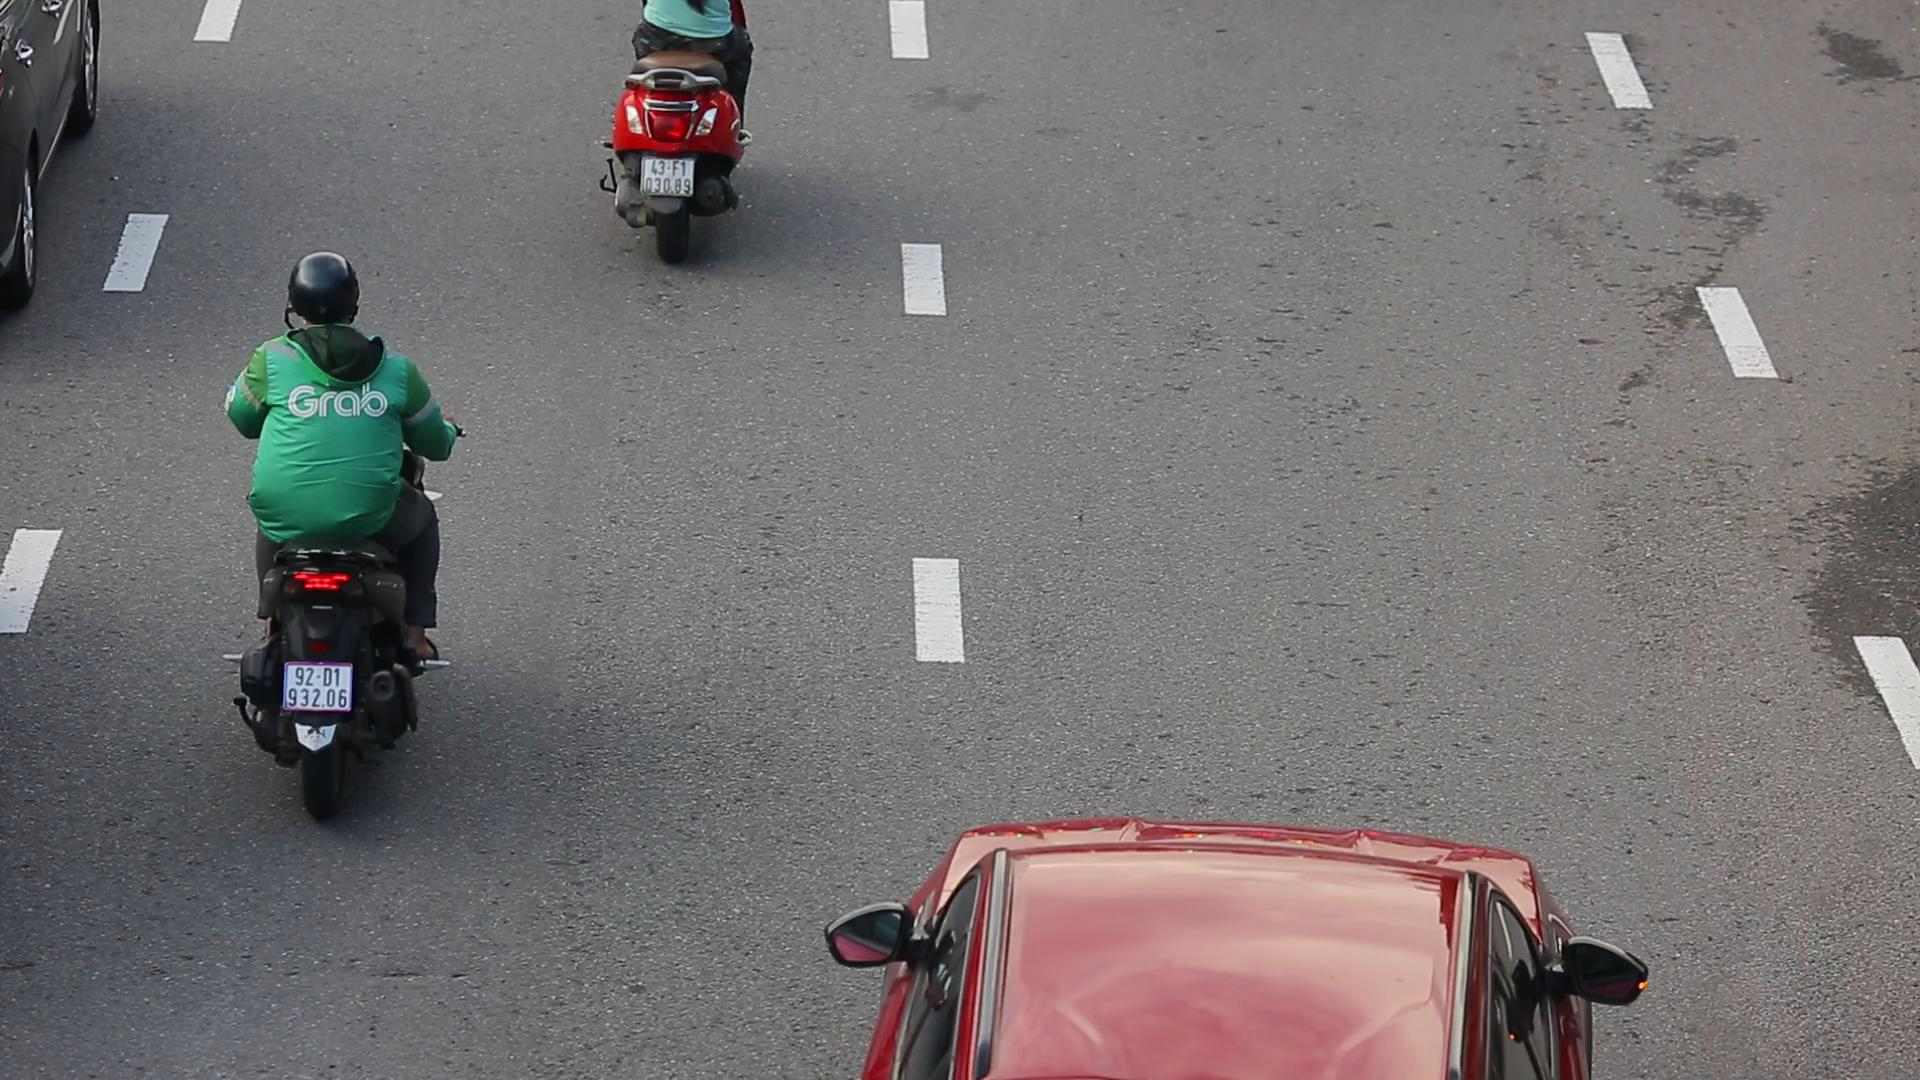motobike: (212, 244, 463, 823)
